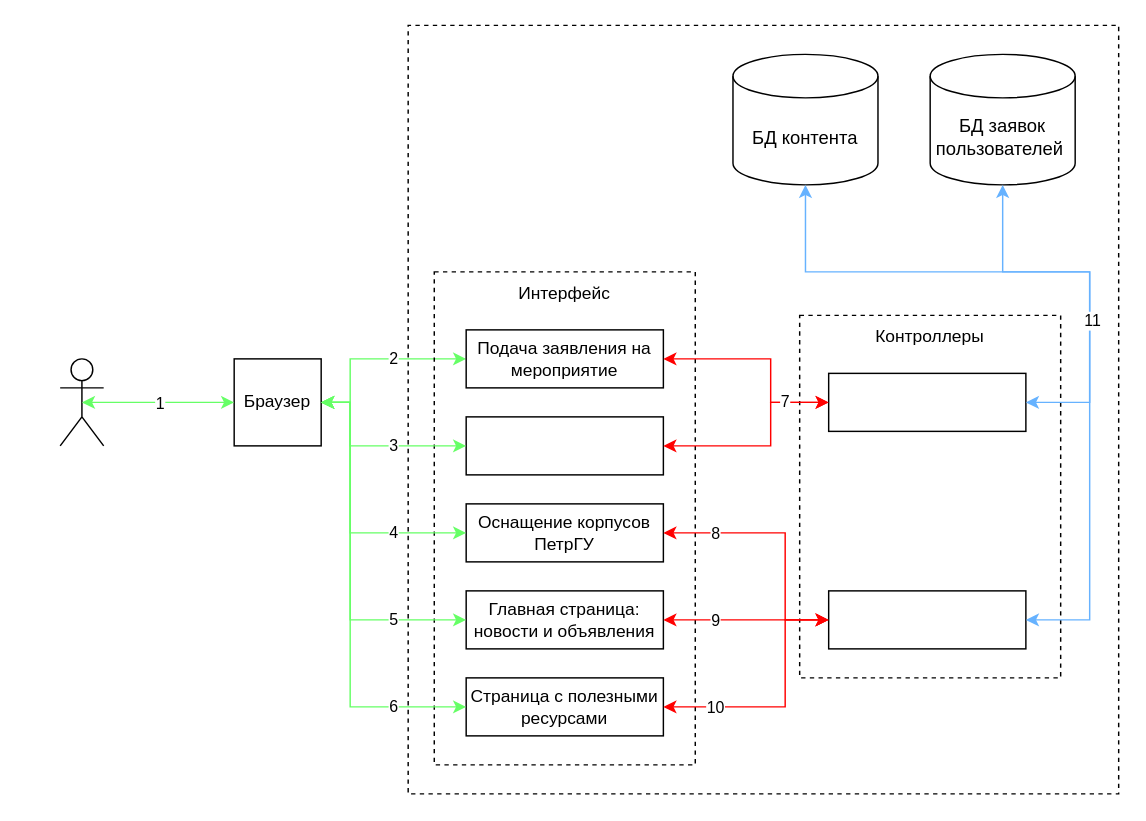
Some shapes in this 1146 by 821 pixel diagram are drawn without their labels. The shapes that lost their labels are listed below. From the top down, each one's centre as x and y in pixels, then its label:
point 81,401: Пользователь
point 926,401: Обработка данных из заявки
point 564,445: Подача заявления на запись к специалисту
point 926,619: Запрос информации из базы данных
